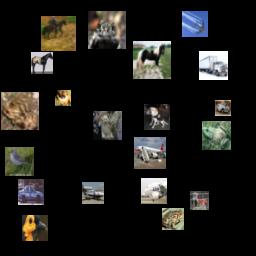airplane: (134, 137, 166, 169), (141, 178, 167, 204), (182, 11, 208, 37), (82, 182, 104, 204)
automobile: (18, 179, 44, 205), (215, 100, 231, 116)
bird: (5, 147, 34, 176), (22, 215, 48, 241)
deer: (190, 191, 209, 210)
dog: (93, 111, 122, 140), (144, 104, 170, 130), (55, 90, 71, 106)
frog: (88, 11, 126, 49), (1, 92, 39, 130), (202, 121, 231, 150), (162, 208, 184, 230)
truck: (199, 51, 228, 80)
